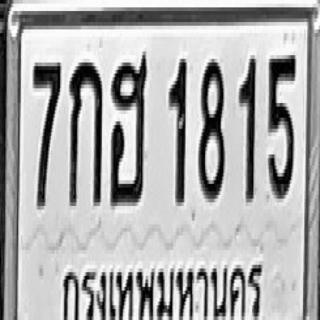A01: (68, 59, 102, 206)
A44: (110, 52, 148, 206)
N01: (238, 55, 256, 202), (169, 55, 187, 202)
N05: (268, 51, 295, 199)
N07: (32, 59, 61, 206)
N08: (198, 57, 224, 200)
P04: (59, 249, 264, 320)
